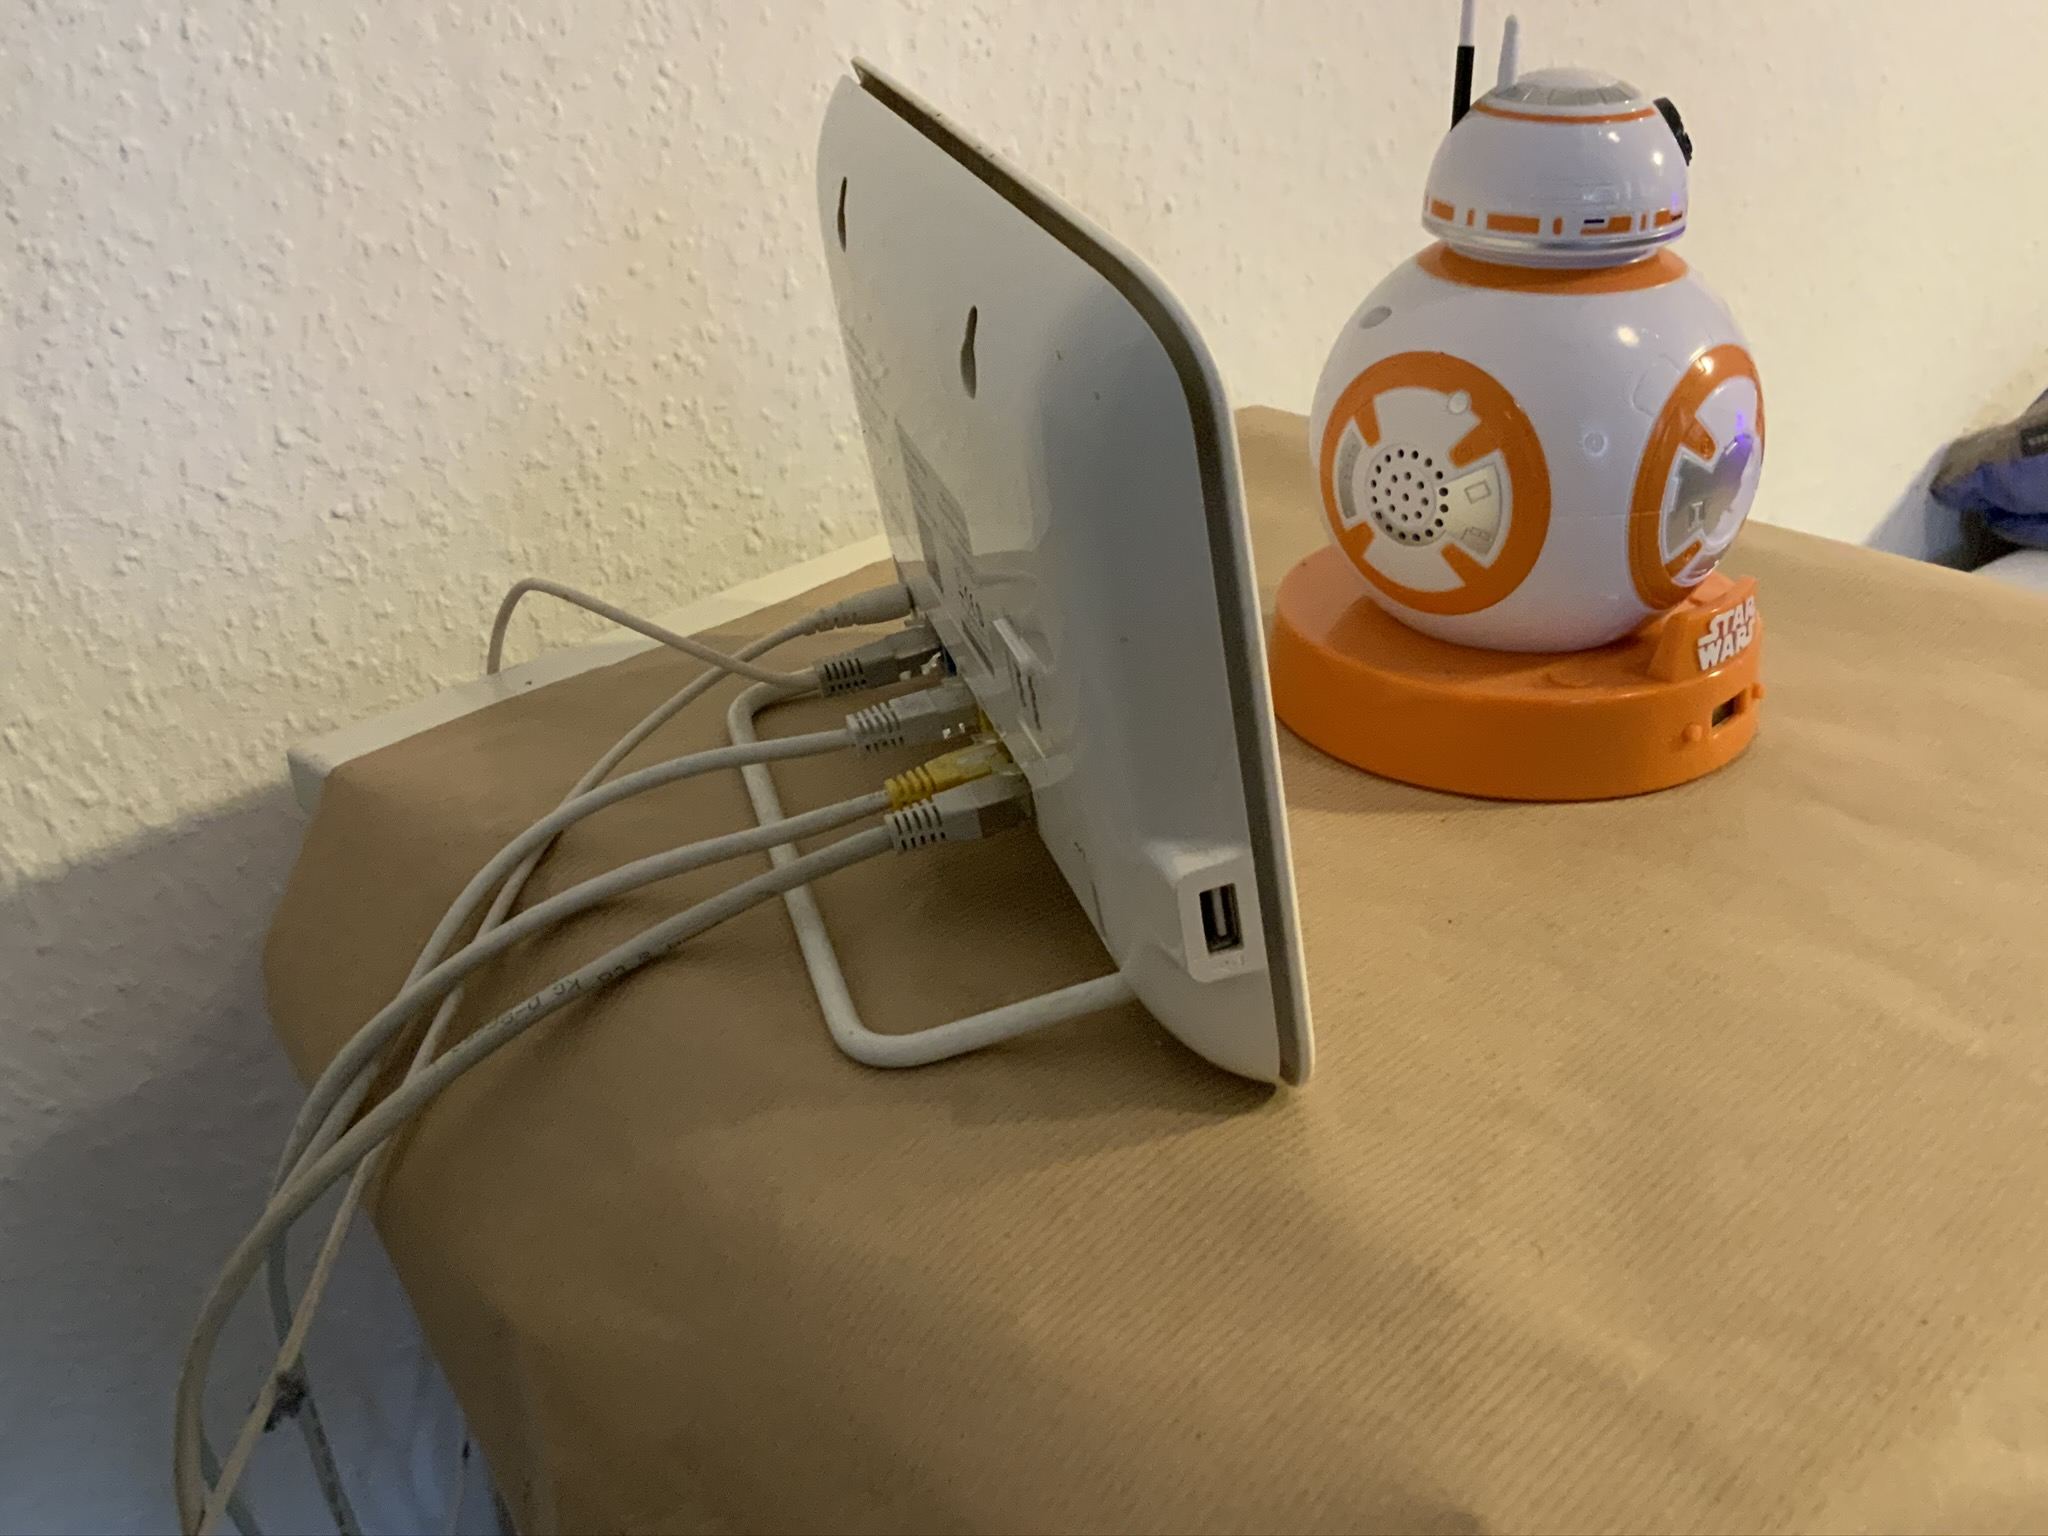router: (810, 47, 1322, 1100)
